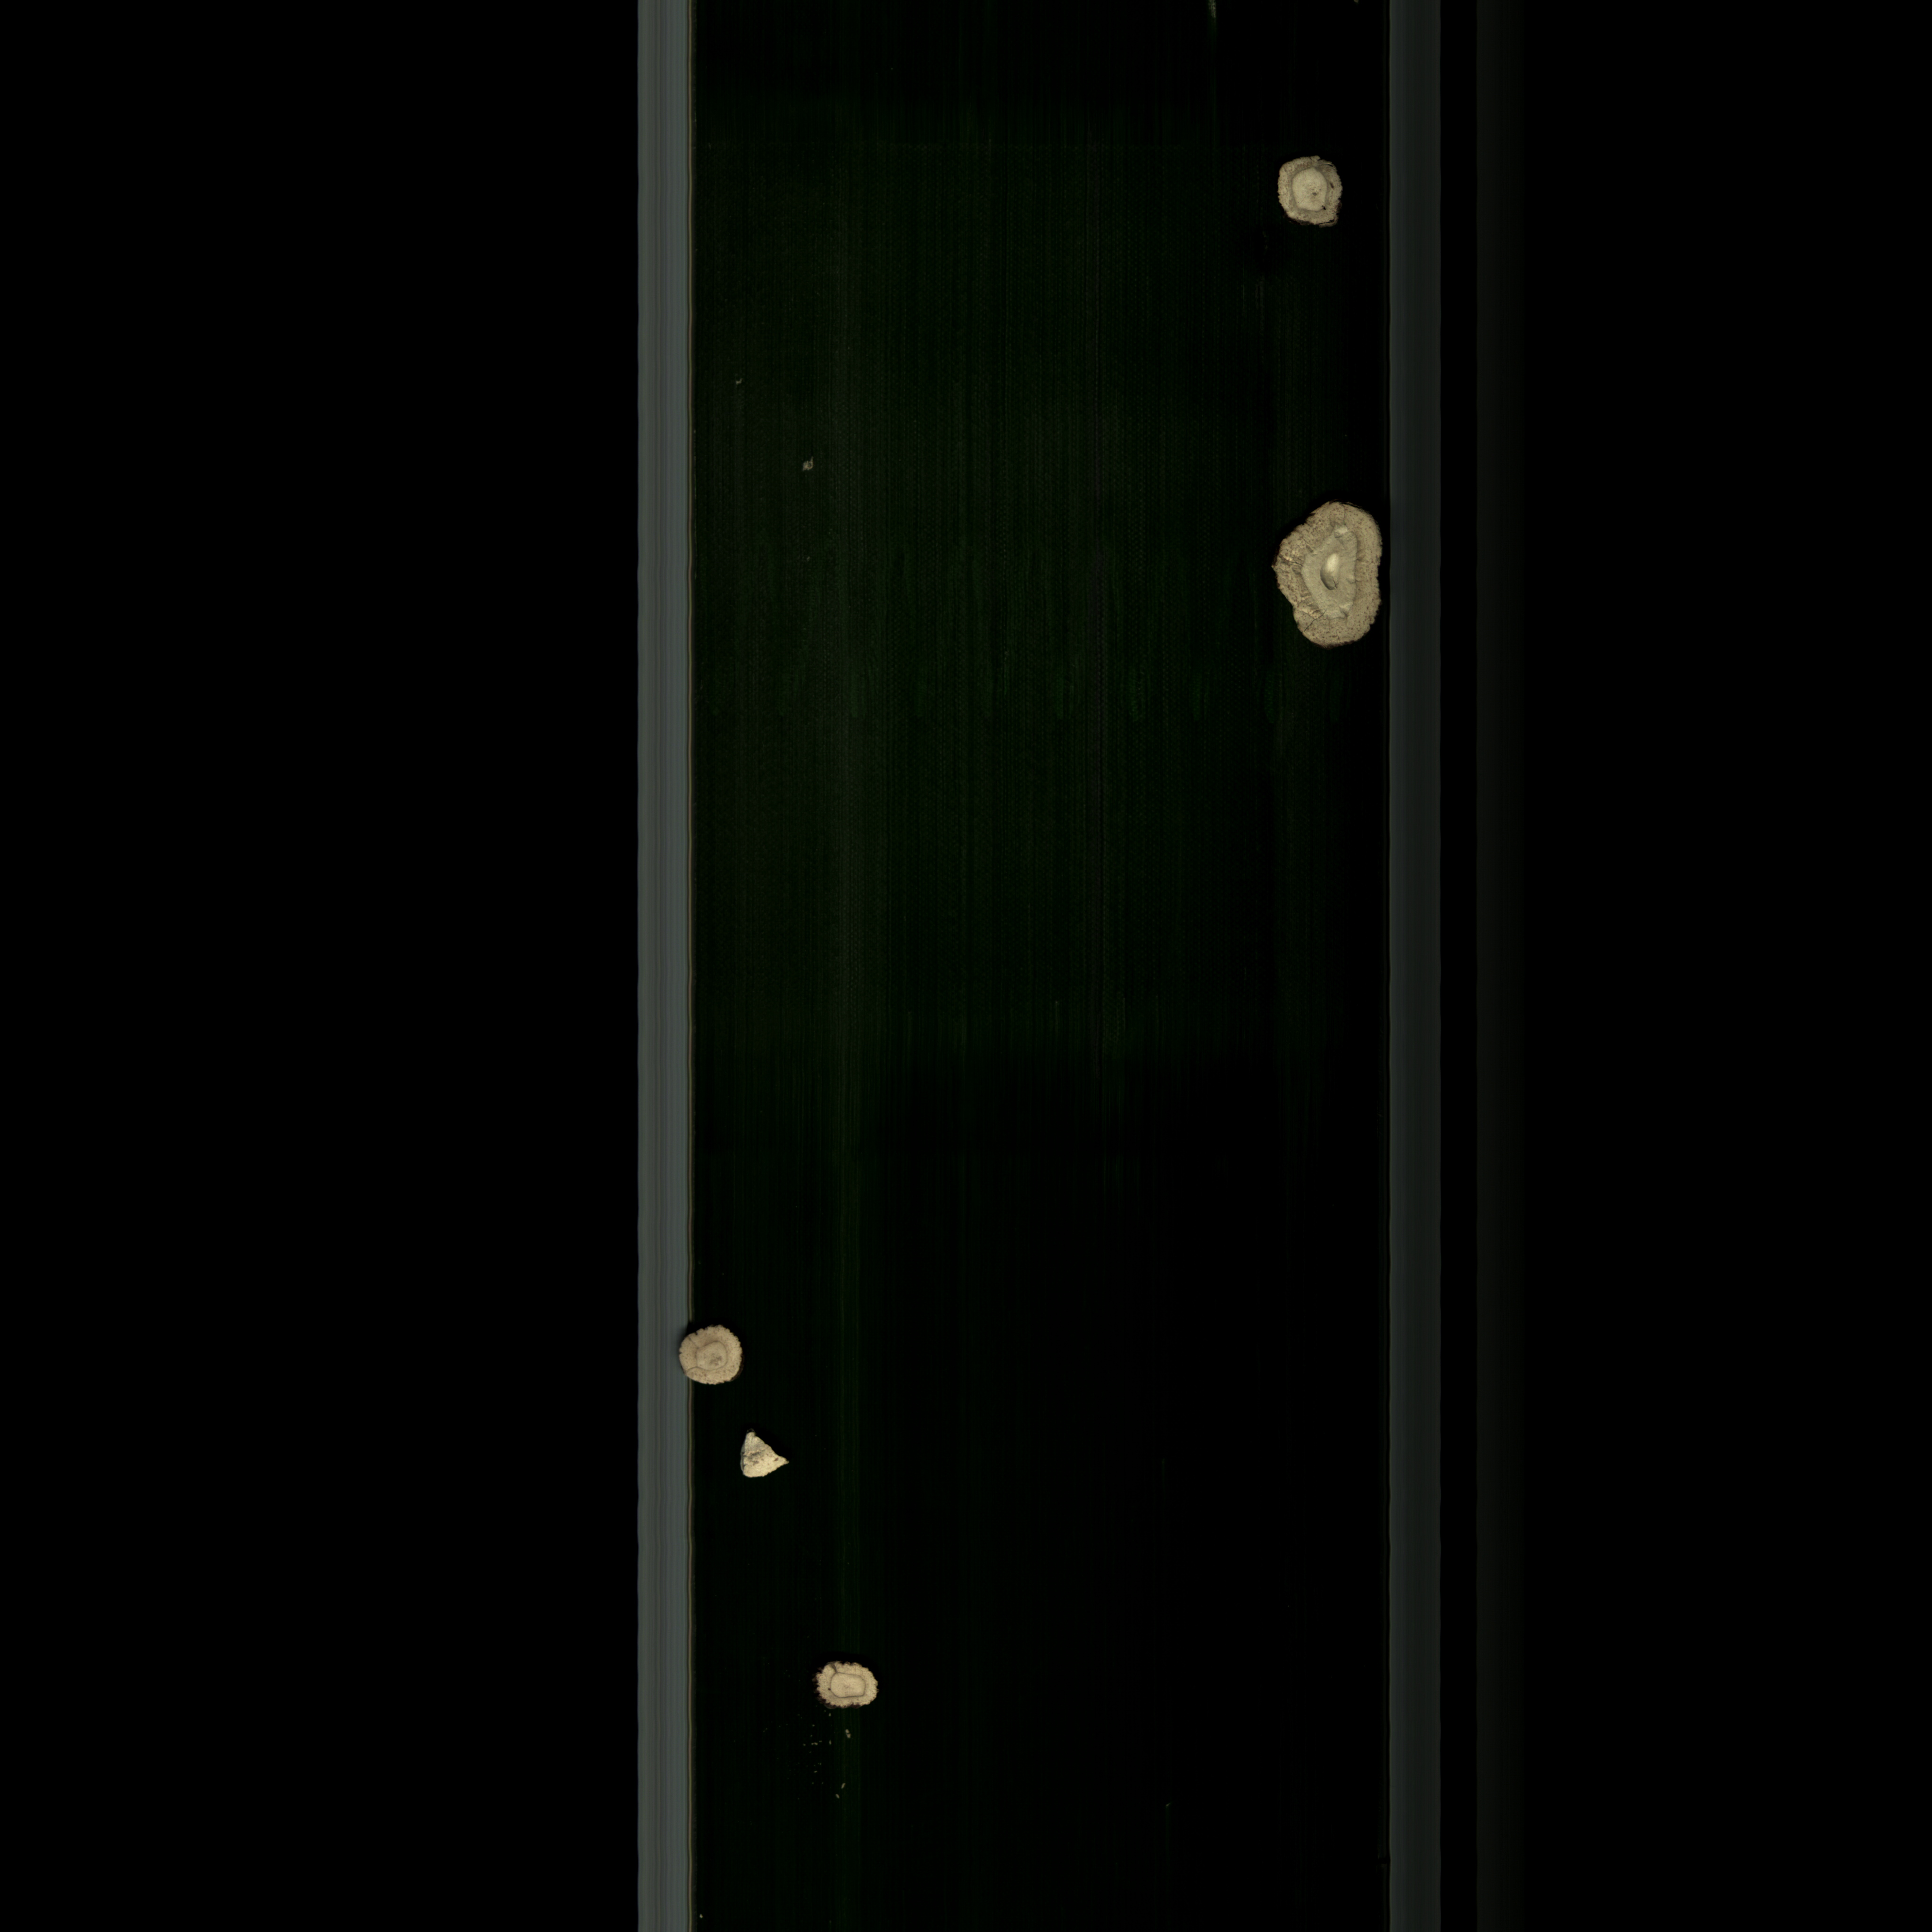distortion: (801, 1656, 890, 1716)
dreg: (732, 1424, 796, 1481)
moldy: (1267, 492, 1387, 656), (1265, 147, 1355, 235), (672, 1325, 750, 1392)
